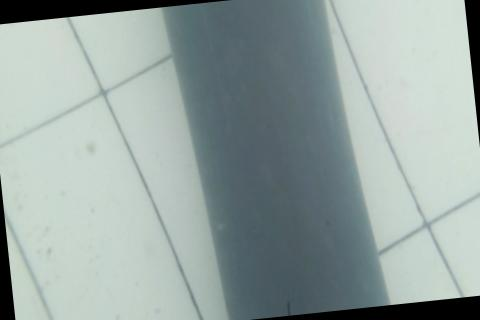keretakan: (283, 297, 293, 316)
